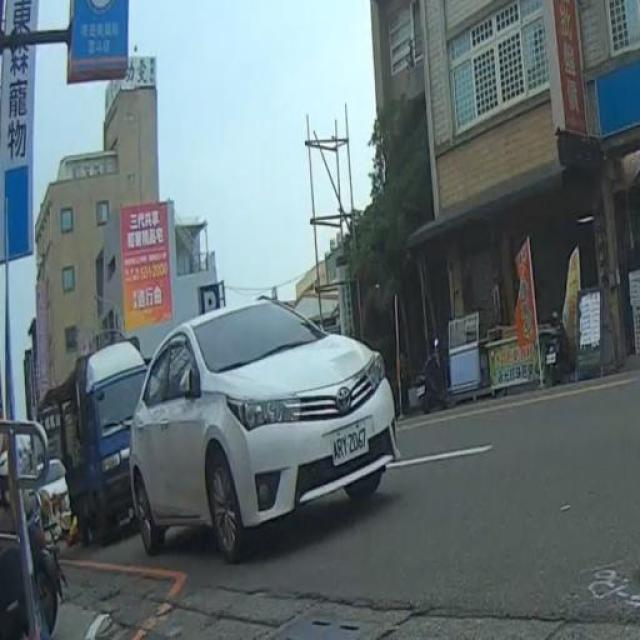Legalparking: (42, 270, 402, 604)
